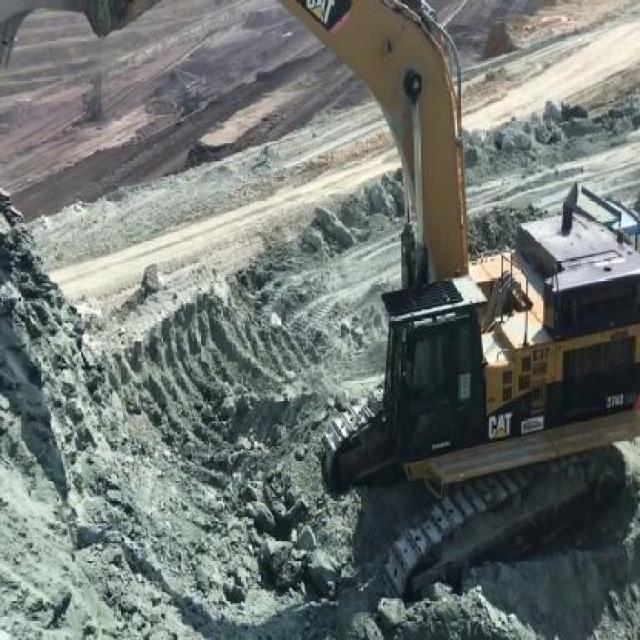excavator: (275, 2, 639, 603)
